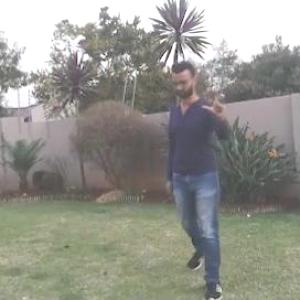land_hand: (198, 87, 230, 117)
